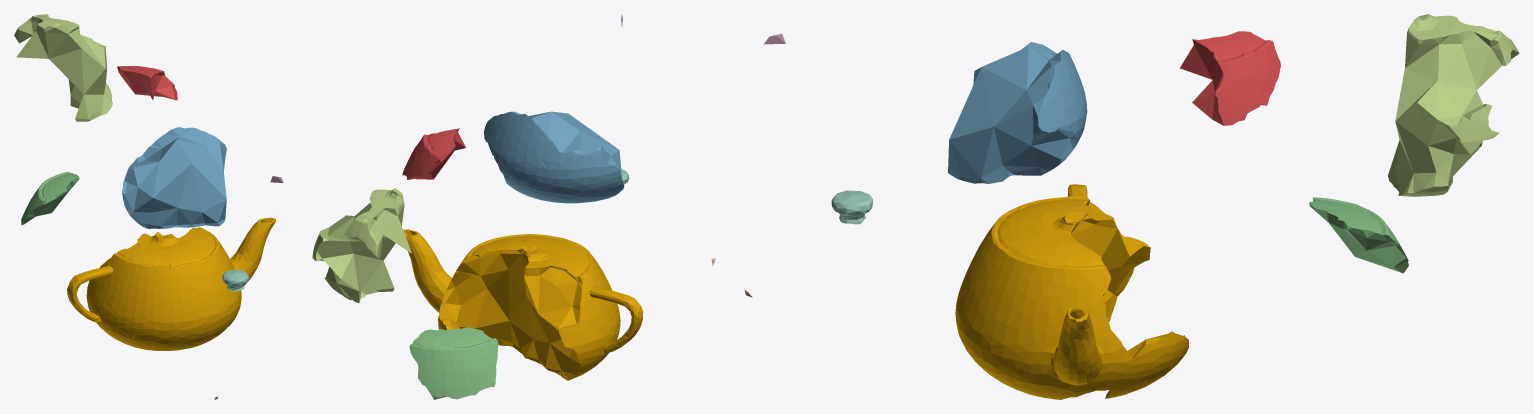
File: mode_16_8pcs_transformed.glb
3 renders of one model, left to right at view 1: azimuth 30°, elevation 25°; view 2: azimuth 150°, elevation 25°; view 3: azimuth 270°, elevation 25°, orthographic. The views are drawn at different scales.
Visible parts, largest first — view 1: piece_0.obj, piece_2.obj, piece_5.obj, piece_3.obj, piece_1.obj, piece_4.obj; view 2: piece_0.obj, piece_2.obj, piece_5.obj, piece_3.obj, piece_1.obj; view 3: piece_0.obj, piece_5.obj, piece_2.obj, piece_1.obj, piece_3.obj, piece_4.obj.
Boxes of the visible parts, bbox=[...] form: piece_0.obj: bbox=[67, 217, 275, 350]; piece_2.obj: bbox=[122, 127, 226, 228]; piece_5.obj: bbox=[14, 14, 112, 121]; piece_3.obj: bbox=[21, 171, 79, 224]; piece_1.obj: bbox=[117, 66, 177, 100]; piece_4.obj: bbox=[222, 269, 248, 291]; piece_0.obj: bbox=[403, 229, 643, 380]; piece_2.obj: bbox=[484, 111, 624, 203]; piece_5.obj: bbox=[312, 188, 411, 303]; piece_3.obj: bbox=[409, 327, 498, 399]; piece_1.obj: bbox=[402, 128, 465, 179]; piece_0.obj: bbox=[955, 184, 1188, 399]; piece_5.obj: bbox=[1388, 14, 1519, 196]; piece_2.obj: bbox=[948, 42, 1087, 183]; piece_1.obj: bbox=[1180, 31, 1280, 125]; piece_3.obj: bbox=[1309, 197, 1408, 273]; piece_4.obj: bbox=[831, 190, 873, 224].
Size of the model in its own units: 1 by 1.04 by 2.07.
